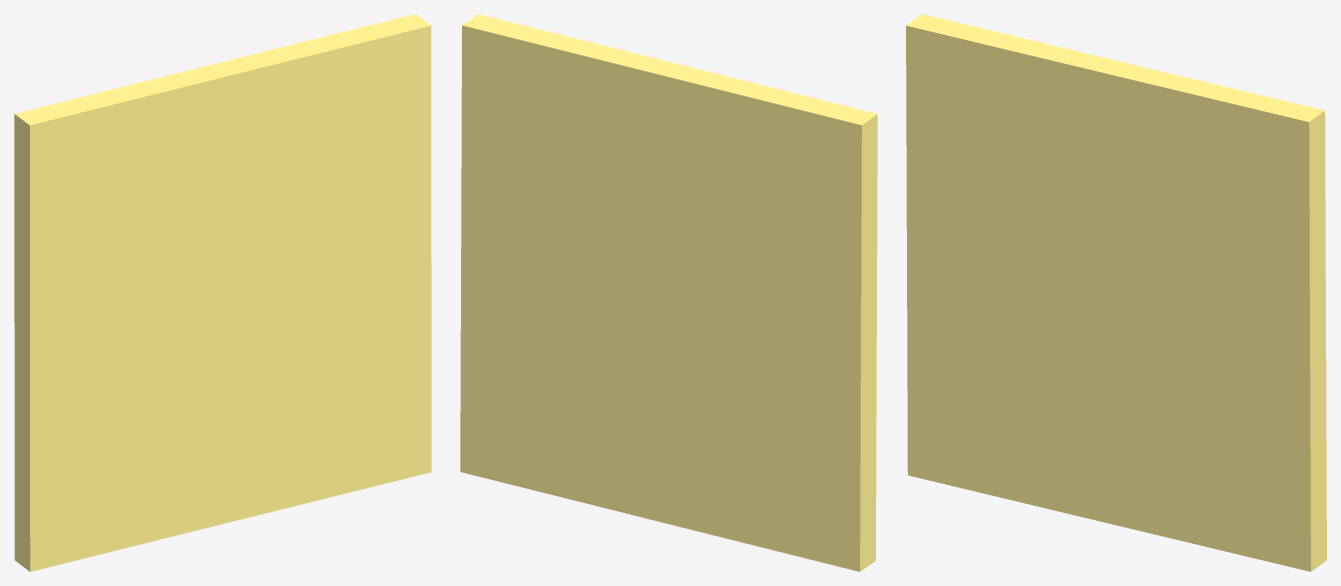
The model's file is 1G_PicFrame_gltf.gltf.
The picture shows the model from 3 angles, left to right: view 1: azimuth 30°, elevation 25°; view 2: azimuth 150°, elevation 25°; view 3: azimuth 330°, elevation 25°; orthographic projection.
Parts seen in each view (by area): view 1: 1G_PicFrame; view 2: 1G_PicFrame; view 3: 1G_PicFrame.
Part boxes in pixels (x1,y1,x2,y2): 1G_PicFrame: [14, 14, 431, 571]; 1G_PicFrame: [460, 14, 877, 571]; 1G_PicFrame: [906, 14, 1326, 571].
Size of the model in its own units: 1.66 by 1.78 by 0.1204.
